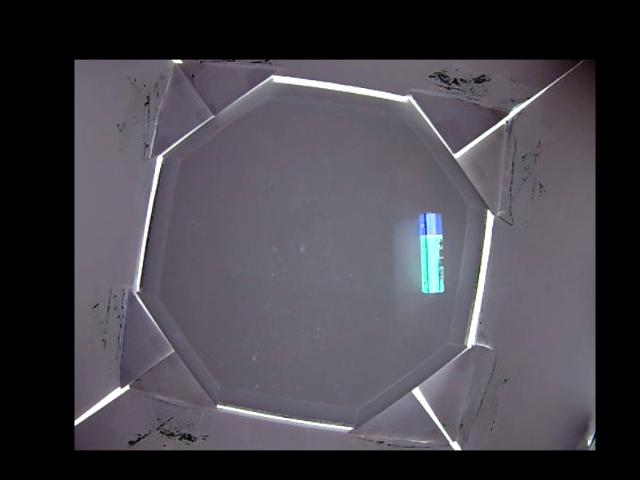Battery: (418, 211, 444, 294)
